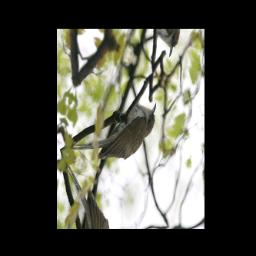Cuckoo: (70, 61, 160, 195)
